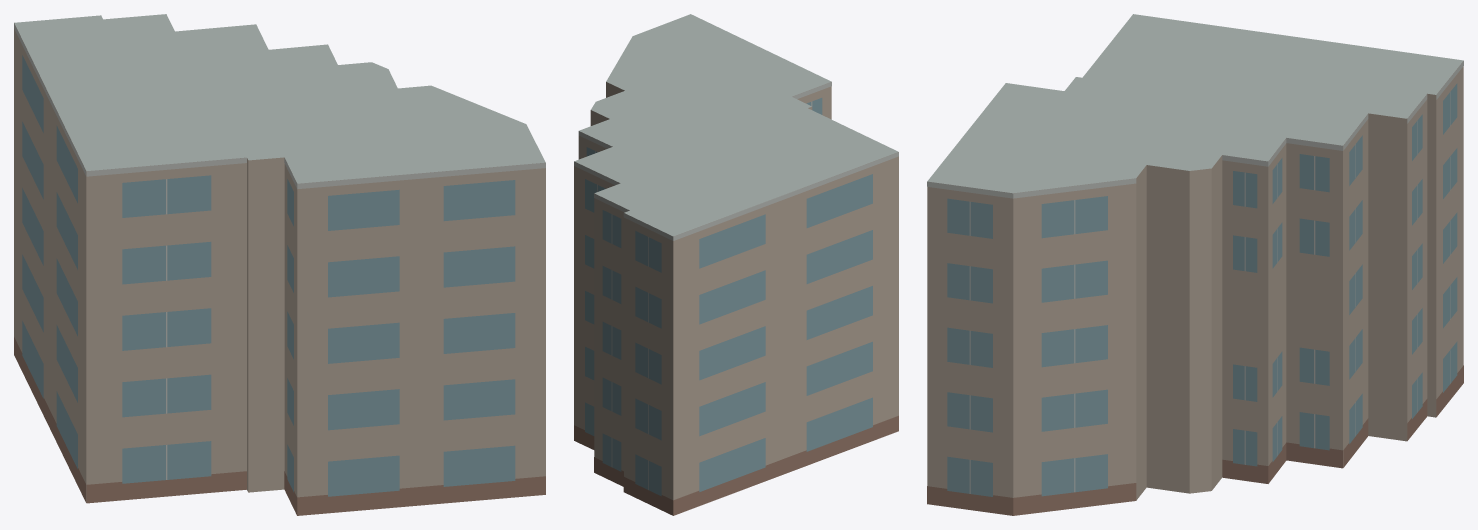
The model's file is survey-upis-33035838.glb.
3 views of the same model, side by side, from view 1: azimuth 30°, elevation 25°; view 2: azimuth 150°, elevation 25°; view 3: azimuth 270°, elevation 25° (orthographic). The views are drawn at different scales.
Parts seen in each view (by area): view 1: survey-upis-33035838.tmp; view 2: survey-upis-33035838.tmp; view 3: survey-upis-33035838.tmp.
Part boxes in pixels (x1=…): survey-upis-33035838.tmp: x1=14, y1=14, x2=545, y2=515; survey-upis-33035838.tmp: x1=574, y1=14, x2=898, y2=515; survey-upis-33035838.tmp: x1=927, y1=14, x2=1463, y2=515.
Bounding box in the file's own units: 17.65 × 14.8 × 22.32.
